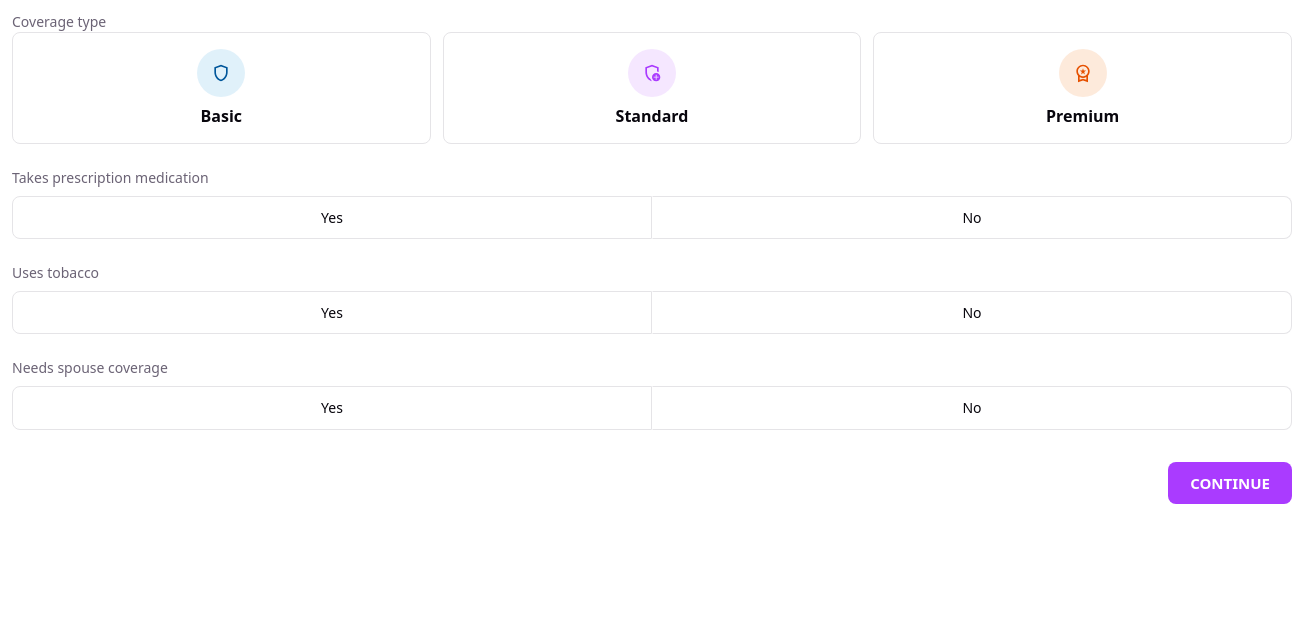
Test: CoverageForm › given_missingCoverageType_when_submitted_then_showsValidationError
Click the button "Continue" at (1230, 483), box [1168, 462, 1292, 504]
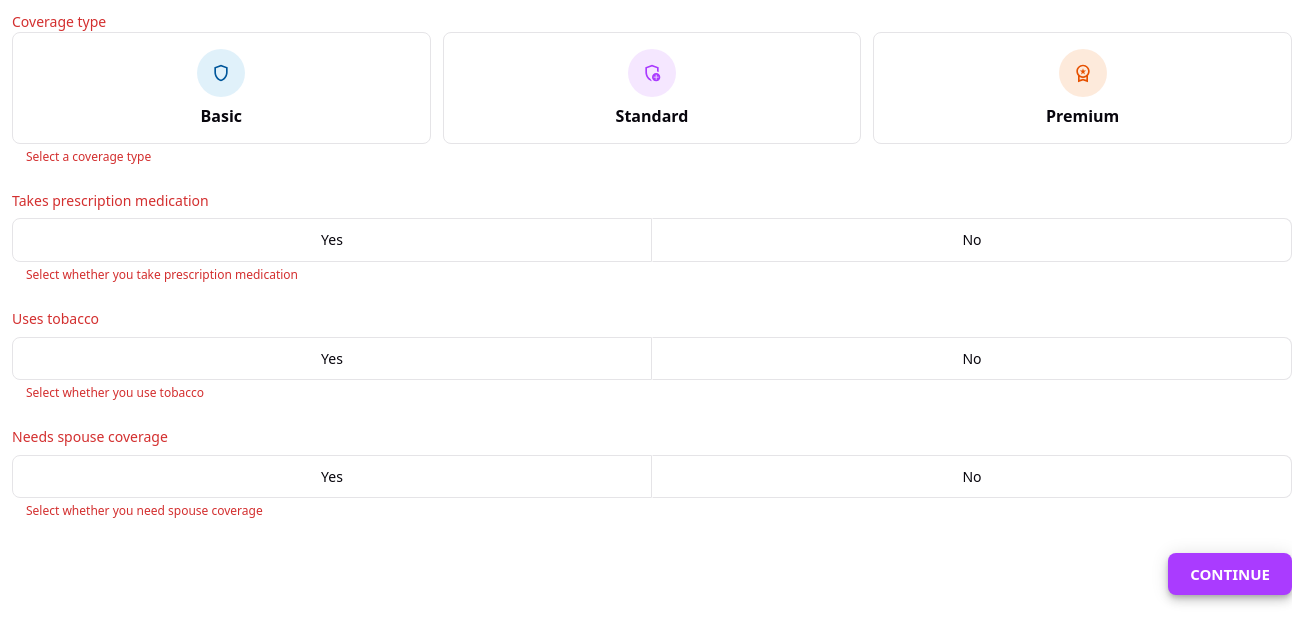
Expected: the text "Select a coverage type" is shown, [26, 148, 151, 165]
